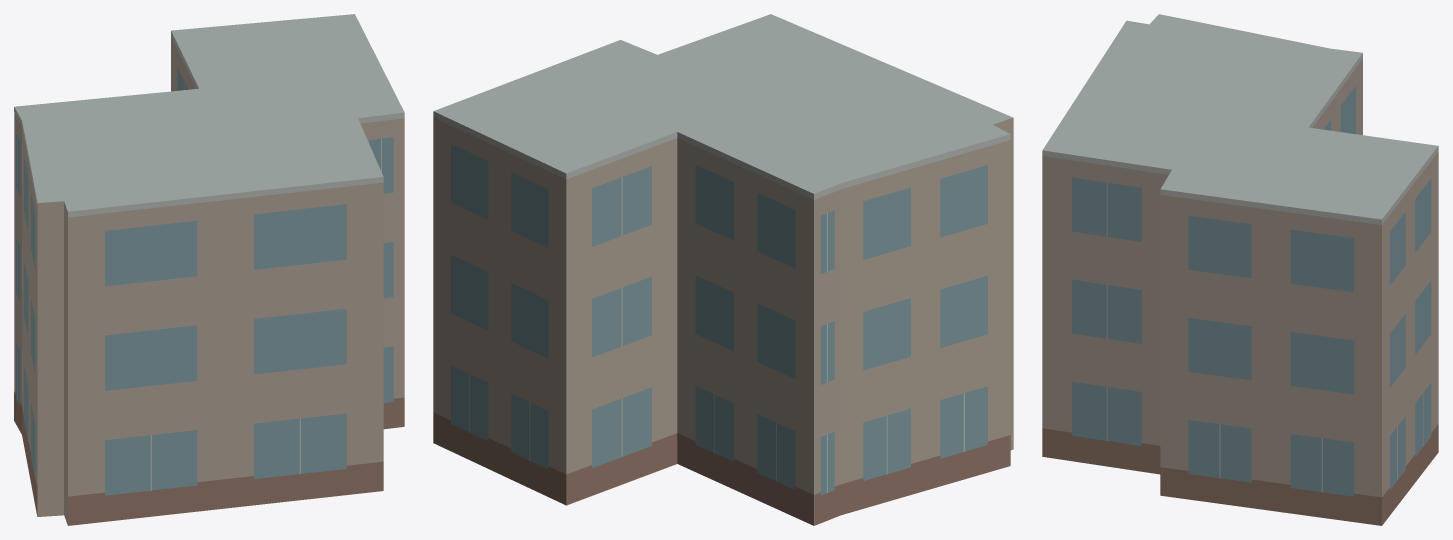
File: survey-upis-32856643.glb
3 renders of one model, left to right at view 1: azimuth 30°, elevation 25°; view 2: azimuth 150°, elevation 25°; view 3: azimuth 270°, elevation 25°, orthographic. The views are drawn at different scales.
Parts seen in each view (by area): view 1: survey-upis-32856643.tmp; view 2: survey-upis-32856643.tmp; view 3: survey-upis-32856643.tmp.
Part boxes in pixels (x1=…): survey-upis-32856643.tmp: x1=14, y1=14, x2=404, y2=525; survey-upis-32856643.tmp: x1=433, y1=14, x2=1013, y2=525; survey-upis-32856643.tmp: x1=1042, y1=14, x2=1438, y2=525.
Size of the model in its own units: 19.43 by 13.5 by 15.83.
